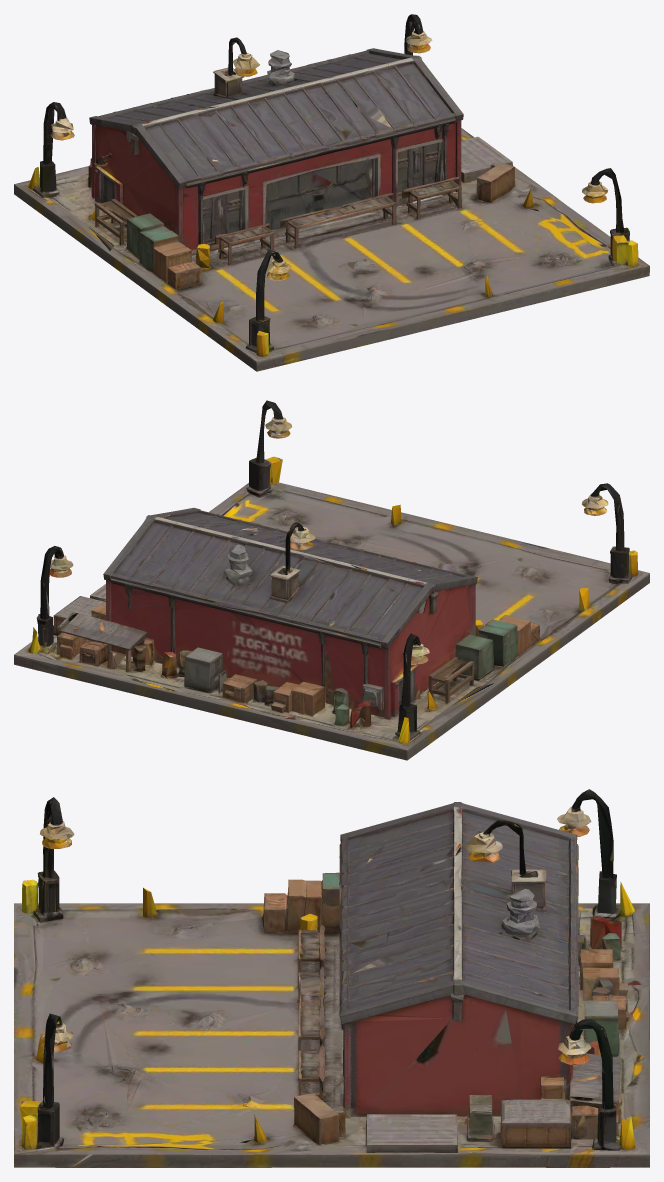
File: truck_depot_bottom_entrance_nw.glb
3 renders of one model, top to bottom at view 1: azimuth 30°, elevation 25°; view 2: azimuth 150°, elevation 25°; view 3: azimuth 270°, elevation 25°, orthographic. The views are drawn at different scales.
Parts seen in each view (by area): view 1: normalize; view 2: normalize; view 3: normalize.
Part boxes in pixels (x1,y1,x2,y2): normalize: (14, 14, 649, 371); normalize: (14, 400, 649, 760); normalize: (14, 789, 649, 1167).
Bounding box in the file's own units: 0.9357 × 0.3538 × 1.
Materials: 1 (1 with a texture image).
